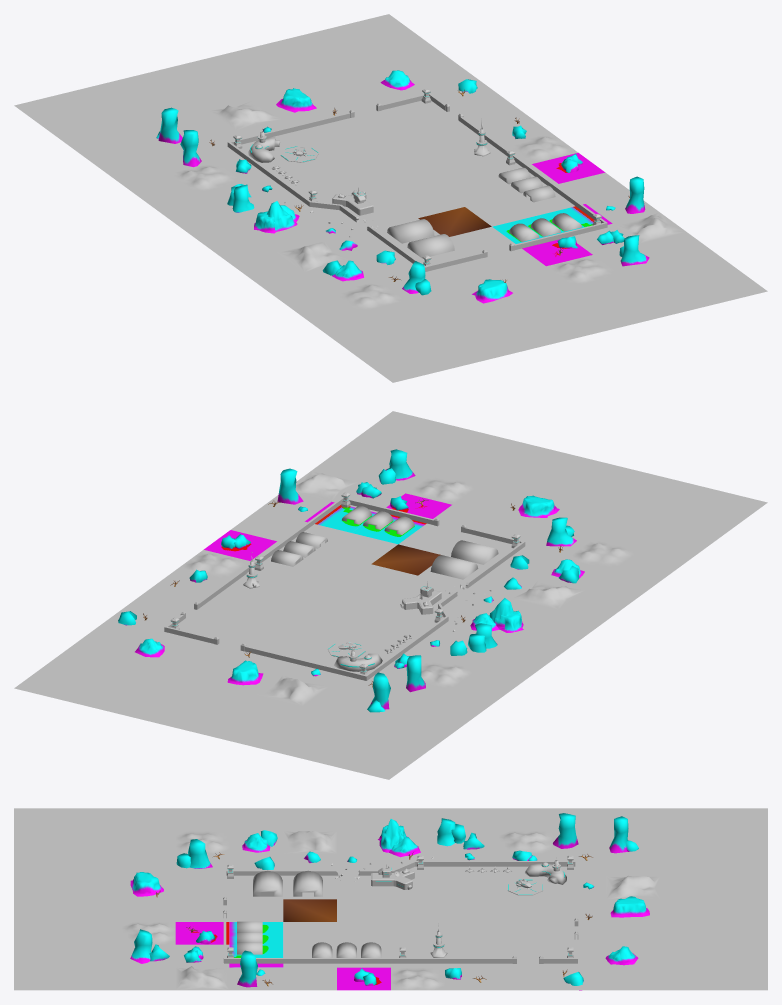
File: DesertBase.fbx
The picture shows the model from 3 angles, top to bottom: view 1: azimuth 30°, elevation 25°; view 2: azimuth 150°, elevation 25°; view 3: azimuth 270°, elevation 25°; orthographic projection.
Parts seen in each view (by area): view 1: tile_desert_1_1_ext.034, tile_desert_1_1_ext.022, tile_desert_1_1_ext.008, tile_desert_3_10, tile_desert_1_1_ext.040, tile_desert_1_1_ext.037, tile_desert_1_1_ext.032, tile_desert_1_1_ext.031, tile_desert_1_1_ext.021, tile_desert_1_1_ext.017, tile_desert_1_1_ext.007, tile_desert_1_1_ext (+102 smaller); view 2: tile_desert_1_1_ext.040, tile_desert_1_1_ext.031, tile_desert_1_1_ext, tile_desert_1_1_ext.038, tile_desert_1_1_ext.027, tile_desert_1_1_ext.024, tile_desert_1_1_ext.022, tile_desert_1_1_ext.020, tile_desert_1_1_ext.015, tile_desert_1_1_ext.008, tile_desert_3_7, tile_desert_1_1 (+103 smaller); view 3: wall8, tile_desert_7_2, tile_desert_7_10, tile_desert_7_1, tile_desert_7_8, tile_desert_2_10, tile_desert_1_1_ext.040, tile_desert_1_1_ext.039, tile_desert_1_1_ext.038, tile_desert_1_1_ext.037, tile_desert_1_1_ext.034, tile_desert_1_1_ext.033 (+120 smaller).
Boxes of the visible parts, left/top/right/bottom form: tile_desert_1_1_ext.034: left=620, top=263, right=693, bottom=294; tile_desert_1_1_ext.022: left=122, top=173, right=195, bottom=204; tile_desert_1_1_ext.008: left=88, top=102, right=161, bottom=133; tile_desert_3_10: left=209, top=99, right=282, bottom=130; tile_desert_1_1_ext.040: left=322, top=45, right=395, bottom=76; tile_desert_1_1_ext.037: left=296, top=25, right=368, bottom=56; tile_desert_1_1_ext.032: left=694, top=271, right=767, bottom=302; tile_desert_1_1_ext.031: left=258, top=272, right=330, bottom=303; tile_desert_1_1_ext.021: left=176, top=213, right=249, bottom=244; tile_desert_1_1_ext.017: left=14, top=94, right=87, bottom=125; tile_desert_1_1_ext.007: left=413, top=340, right=485, bottom=371; tile_desert_1_1_ext: left=386, top=320, right=459, bottom=351; tile_desert_1_1_ext.040: left=88, top=660, right=161, bottom=691; tile_desert_1_1_ext.031: left=586, top=570, right=659, bottom=601; tile_desert_1_1_ext: left=620, top=499, right=693, bottom=530; tile_desert_1_1_ext.038: left=14, top=668, right=87, bottom=699; tile_desert_1_1_ext.027: left=413, top=422, right=485, bottom=453; tile_desert_1_1_ext.024: left=694, top=491, right=767, bottom=522; tile_desert_1_1_ext.022: left=451, top=669, right=523, bottom=700; tile_desert_1_1_ext.020: left=532, top=610, right=605, bottom=641; tile_desert_1_1_ext.015: left=296, top=737, right=368, bottom=768; tile_desert_1_1_ext.008: left=322, top=717, right=395, bottom=748; tile_desert_3_7: left=337, top=615, right=410, bottom=646; tile_desert_1_1: left=593, top=519, right=666, bottom=550; wall8: left=224, top=958, right=512, bottom=963; tile_desert_7_2: left=175, top=966, right=229, bottom=990; tile_desert_7_10: left=606, top=967, right=660, bottom=990; tile_desert_7_1: left=121, top=967, right=175, bottom=990; tile_desert_7_8: left=498, top=967, right=552, bottom=990; tile_desert_2_10: left=606, top=853, right=660, bottom=876; tile_desert_1_1_ext.040: left=660, top=944, right=713, bottom=967; tile_desert_1_1_ext.039: left=660, top=967, right=713, bottom=990; tile_desert_1_1_ext.038: left=714, top=967, right=767, bottom=990; tile_desert_1_1_ext.037: left=714, top=944, right=767, bottom=967; tile_desert_1_1_ext.034: left=68, top=944, right=121, bottom=967; tile_desert_1_1_ext.033: left=68, top=967, right=121, bottom=990.
Size of the model in its own units: 12000 by 21000 by 1514.
